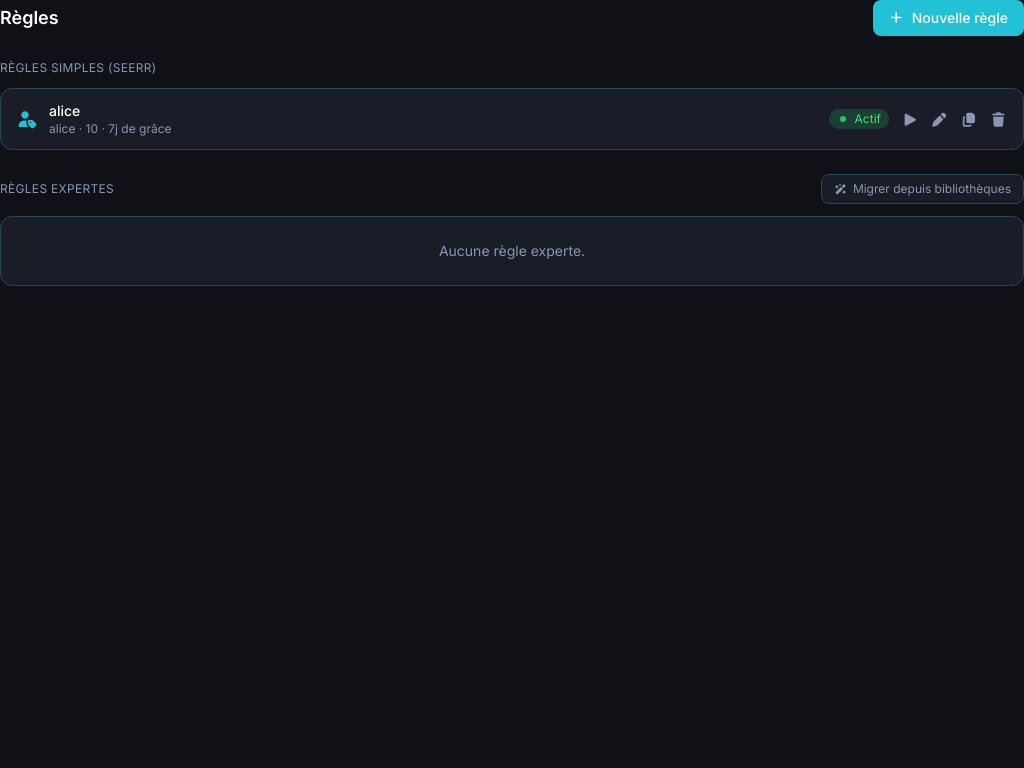
Test: RulesView › clicking the delete-confirmation backdrop cancels without deleting
Click the button titled "Supprimer".
click(998, 119)  # box [990, 107, 1007, 131]
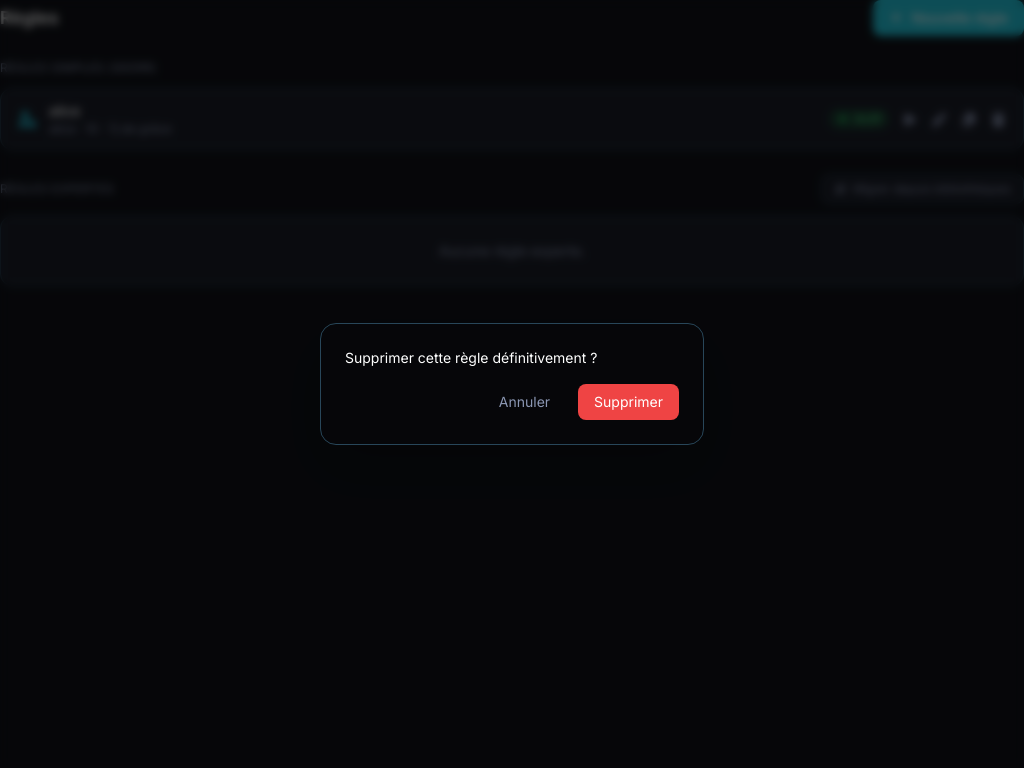
Expected: the element with class "inset-0" is shown
Press the mouse on the element with class "inset-0" at {"x": 512, "y": 384}, box [0, 0, 1023, 767]
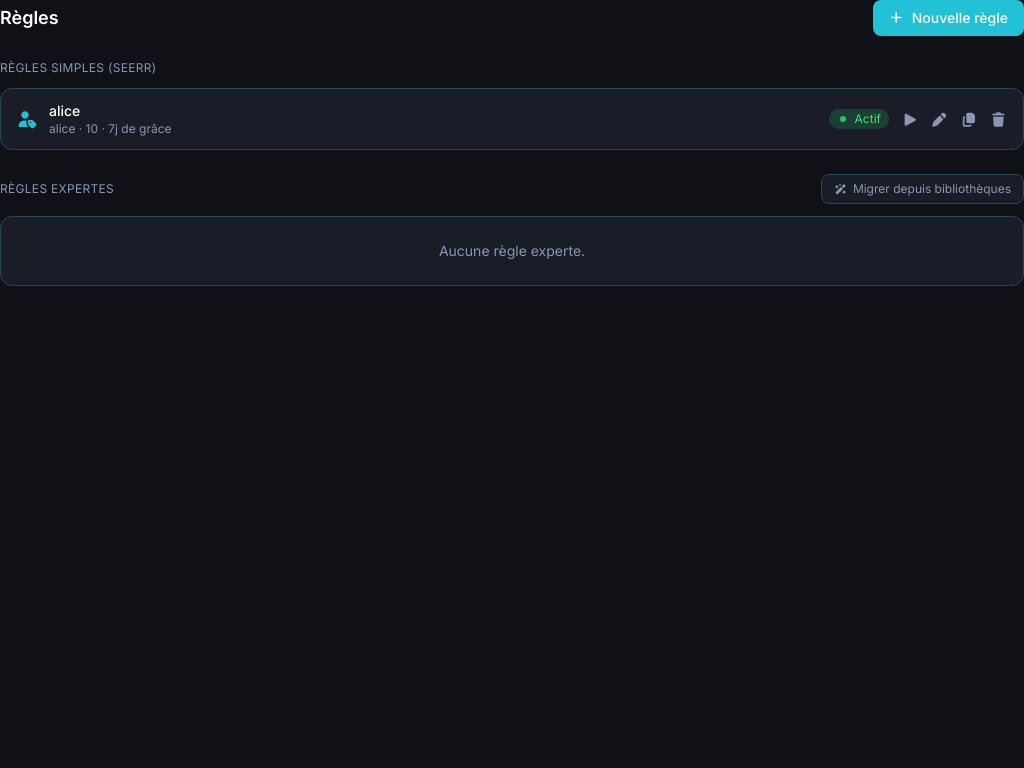
Expected: the element with class "inset-0" is gone
